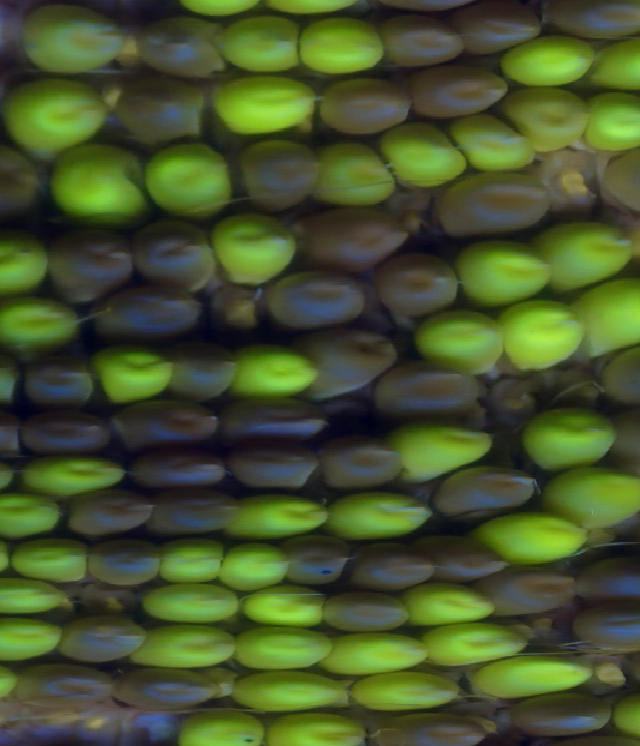fluorescent: (52, 134, 159, 220), (520, 407, 626, 478), (26, 2, 124, 75), (10, 81, 114, 147), (499, 297, 588, 373), (213, 82, 327, 137), (413, 304, 504, 372), (482, 505, 586, 563), (210, 210, 298, 276), (449, 110, 547, 169), (314, 136, 401, 202), (324, 487, 434, 539), (155, 147, 236, 217), (549, 227, 630, 297), (299, 18, 381, 85), (462, 239, 550, 301), (236, 487, 336, 540), (504, 29, 591, 89), (550, 471, 640, 527), (473, 652, 589, 695), (18, 452, 124, 497), (347, 672, 463, 713), (399, 585, 497, 633), (140, 626, 239, 671), (234, 669, 342, 710), (227, 23, 305, 79), (318, 629, 427, 669), (386, 127, 459, 185), (99, 347, 181, 398), (149, 581, 247, 623), (236, 627, 327, 671), (401, 426, 484, 473), (233, 579, 324, 621), (243, 339, 311, 394), (520, 92, 578, 156), (570, 295, 640, 347), (431, 627, 517, 669), (0, 300, 75, 347), (159, 540, 239, 584), (185, 705, 270, 746), (588, 88, 640, 155), (227, 542, 294, 588), (14, 536, 81, 581), (0, 234, 50, 294), (275, 716, 373, 745), (0, 617, 62, 660), (0, 488, 59, 533), (589, 49, 640, 95), (0, 576, 68, 608)
nonfluorescent: (134, 4, 226, 81), (304, 210, 418, 269), (269, 268, 378, 329), (436, 176, 546, 236), (315, 75, 417, 139), (434, 469, 549, 523), (101, 276, 207, 333), (220, 392, 337, 442), (233, 139, 317, 208), (370, 366, 484, 416), (124, 72, 211, 137), (315, 437, 398, 501), (47, 226, 136, 285), (375, 18, 469, 71), (460, 1, 546, 58), (163, 339, 243, 400), (305, 329, 389, 387), (410, 63, 498, 117), (23, 404, 111, 458), (105, 401, 220, 442), (378, 256, 465, 310), (428, 526, 504, 587), (224, 442, 323, 488), (365, 711, 494, 746), (0, 140, 49, 227), (65, 605, 143, 659), (23, 669, 115, 714), (89, 531, 160, 589), (62, 487, 156, 530), (321, 588, 407, 634), (513, 692, 615, 730), (23, 353, 102, 402), (142, 446, 231, 489), (121, 672, 228, 707), (150, 216, 213, 272), (585, 543, 640, 607), (163, 492, 246, 533), (539, 5, 640, 36), (498, 568, 569, 611), (286, 545, 352, 591), (357, 542, 428, 582), (573, 614, 640, 650)
